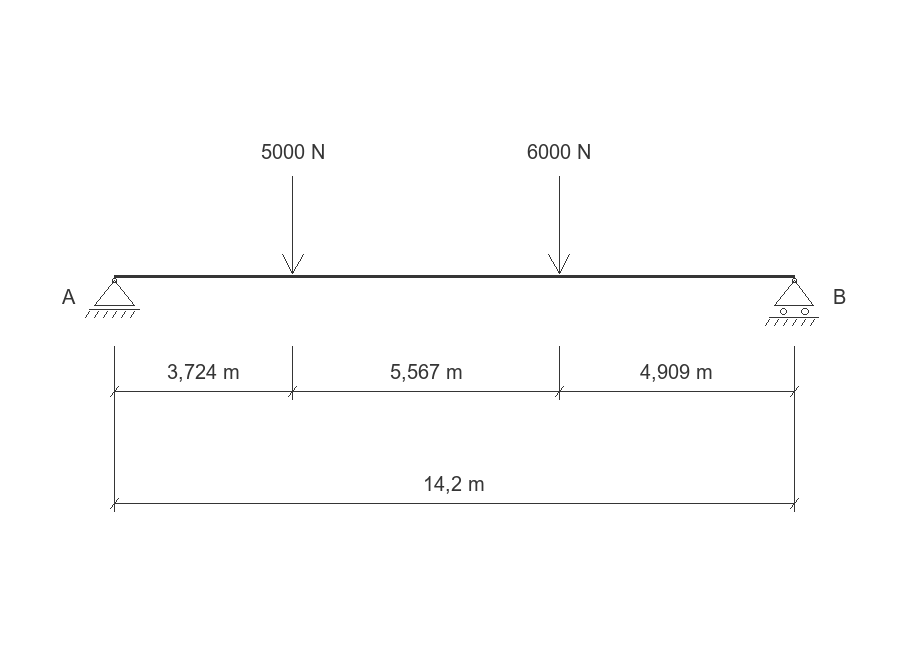pin_support: (85, 278, 140, 318)
point_load: (282, 176, 304, 274), (548, 176, 570, 274)
roller_support: (765, 278, 819, 326)
